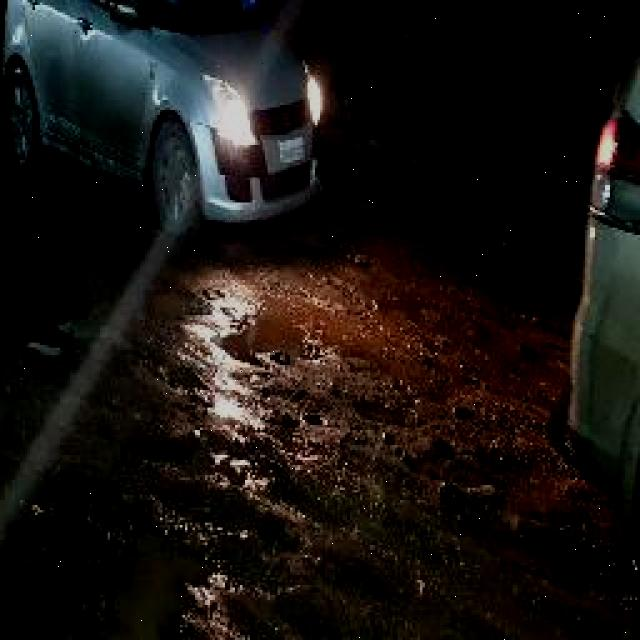stagnation: (193, 278, 469, 414)
